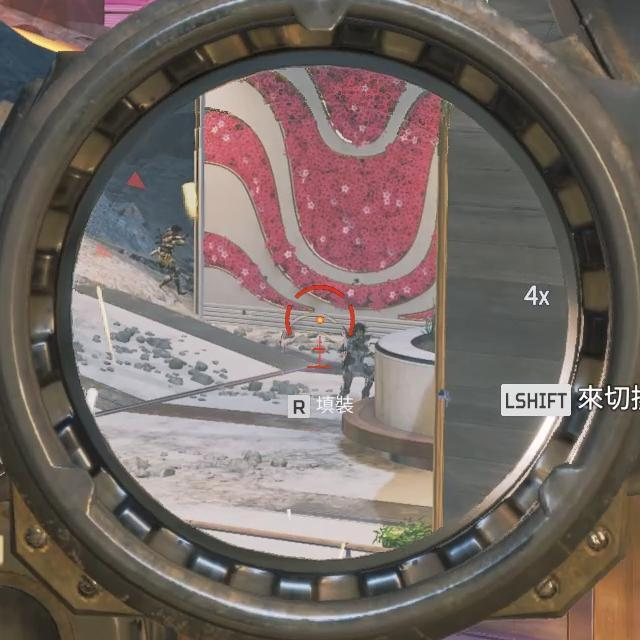avatar: (337, 321, 377, 401), (154, 224, 189, 296)
